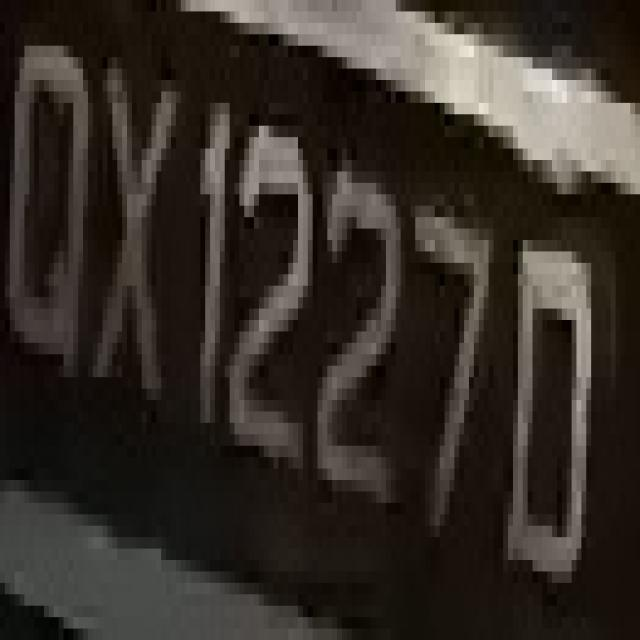0: (498, 172, 601, 617)
1: (186, 46, 220, 468)
2: (308, 103, 396, 594), (230, 103, 303, 514)
7: (406, 126, 498, 548)
Q: (10, 0, 88, 469)
X: (88, 57, 171, 457)
